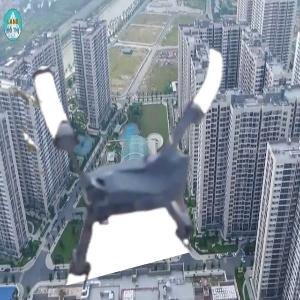drone: (30, 35, 257, 262)
